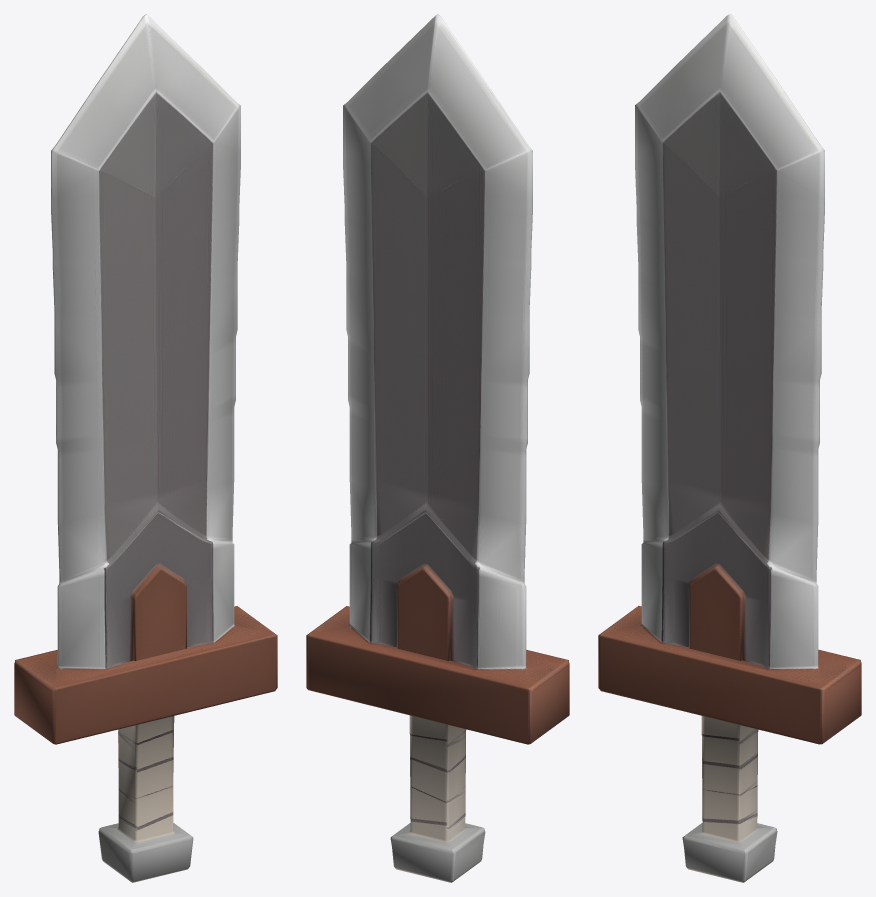
The model's file is sword.fbx.
The picture shows the model from 3 angles, left to right: view 1: azimuth 30°, elevation 25°; view 2: azimuth 150°, elevation 25°; view 3: azimuth 330°, elevation 25°; orthographic projection.
Visible parts, largest first — view 1: Mesh_0; view 2: Mesh_0; view 3: Mesh_0.
Part boxes in pixels (bbox=[...]): Mesh_0: bbox=[14, 14, 277, 882]; Mesh_0: bbox=[306, 14, 569, 882]; Mesh_0: bbox=[598, 14, 861, 882].
Size of the model in its own units: 52.84 by 191 by 16.05.
1 material, 1 textured.
